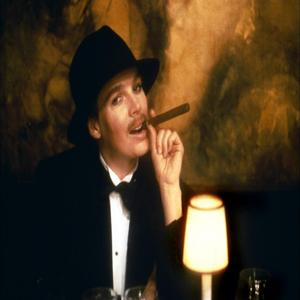cigarette: (145, 103, 191, 132)
